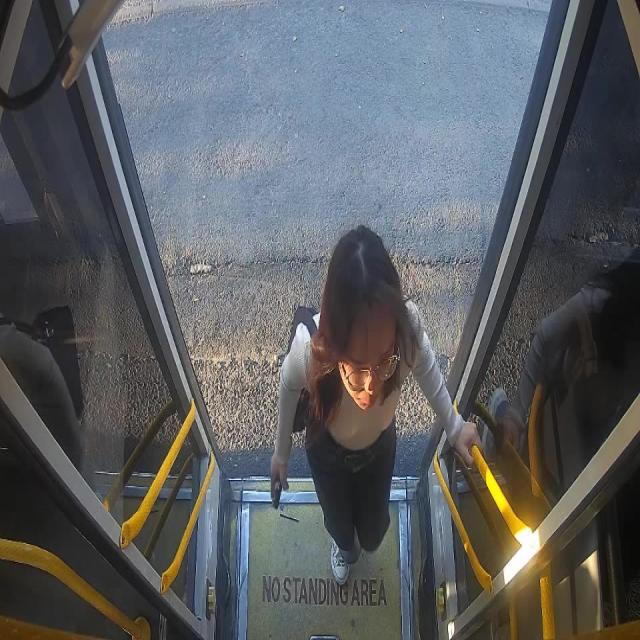open: (75, 3, 577, 489)
